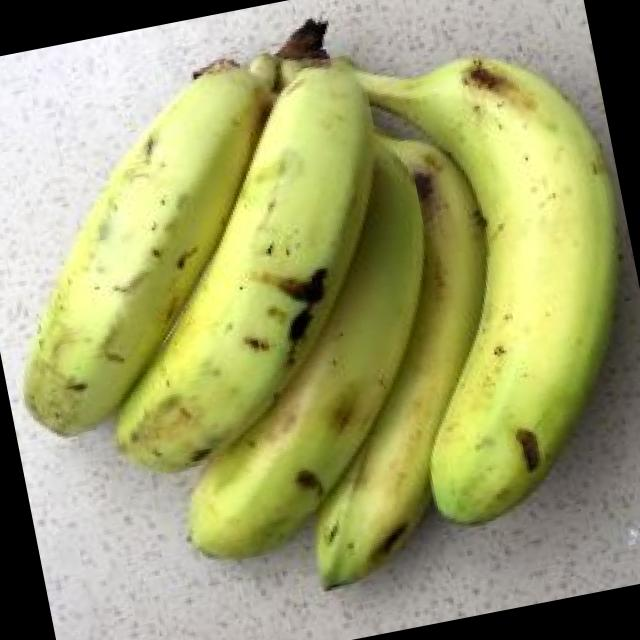banana: (42, 27, 549, 494)
